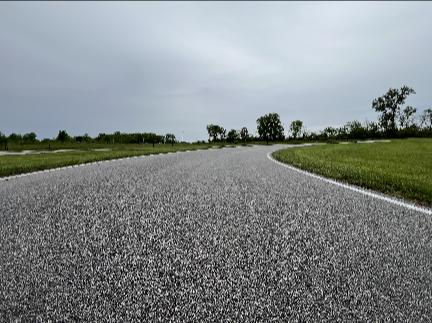Grass: (273, 138, 431, 206), (0, 146, 207, 177)
Lane: (0, 145, 431, 322)
